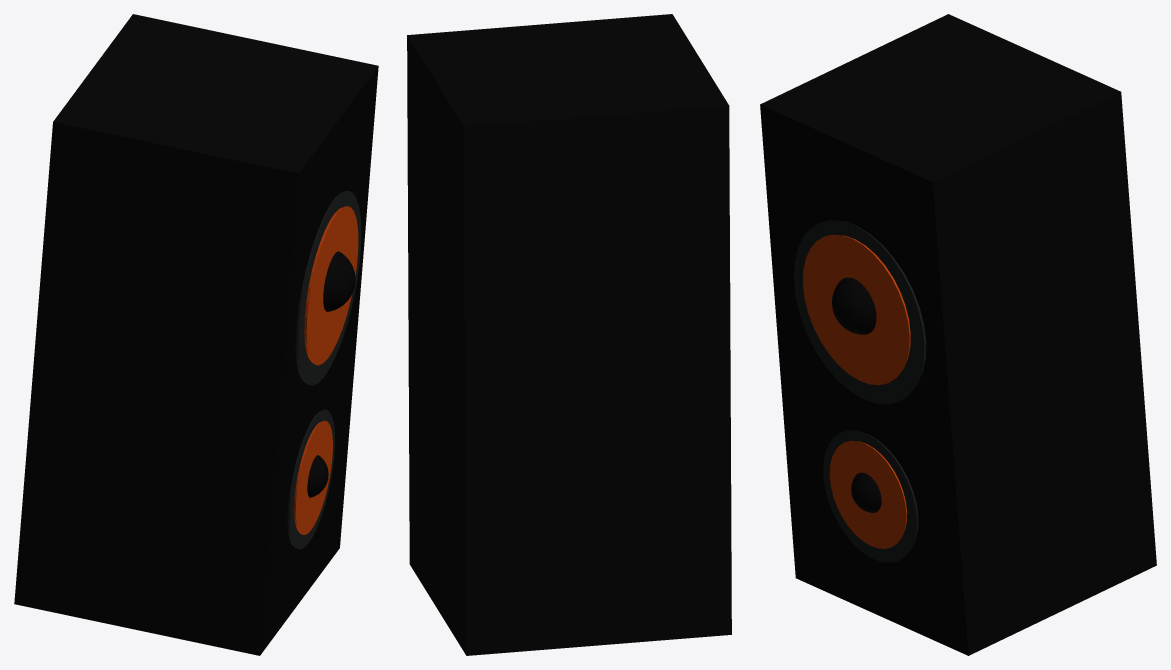
Rendered from Speaker_object.obj.
3 views of the same model, side by side, from view 1: azimuth 30°, elevation 25°; view 2: azimuth 150°, elevation 25°; view 3: azimuth 270°, elevation 25° (orthographic). The views are drawn at different scales.
Parts seen in each view (by area): view 1: Cone.004; view 2: Cone.004; view 3: Cone.004.
Boxes of the visible parts, x1,y1,x2,y2 form: Cone.004: (14, 14, 378, 655); Cone.004: (407, 14, 731, 655); Cone.004: (760, 14, 1156, 655).
Bounding box in the file's own units: 0.0866 × 0.1252 × 0.0892.
